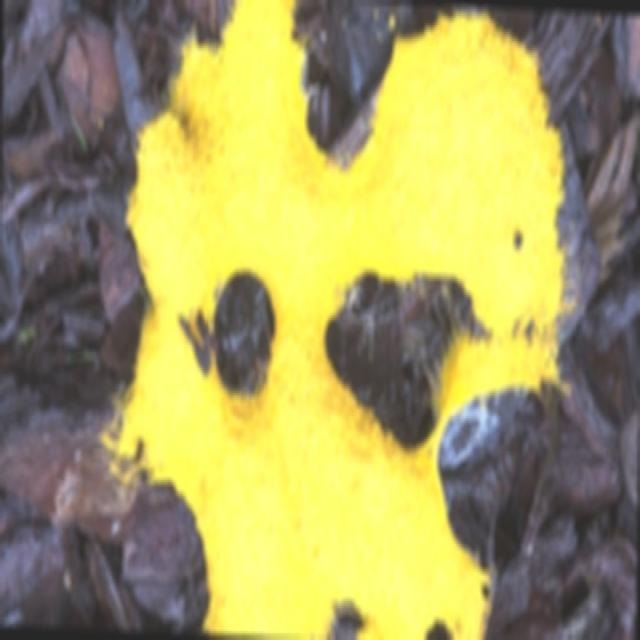Dog_vomit_slime_mold: (118, 15, 562, 640)
